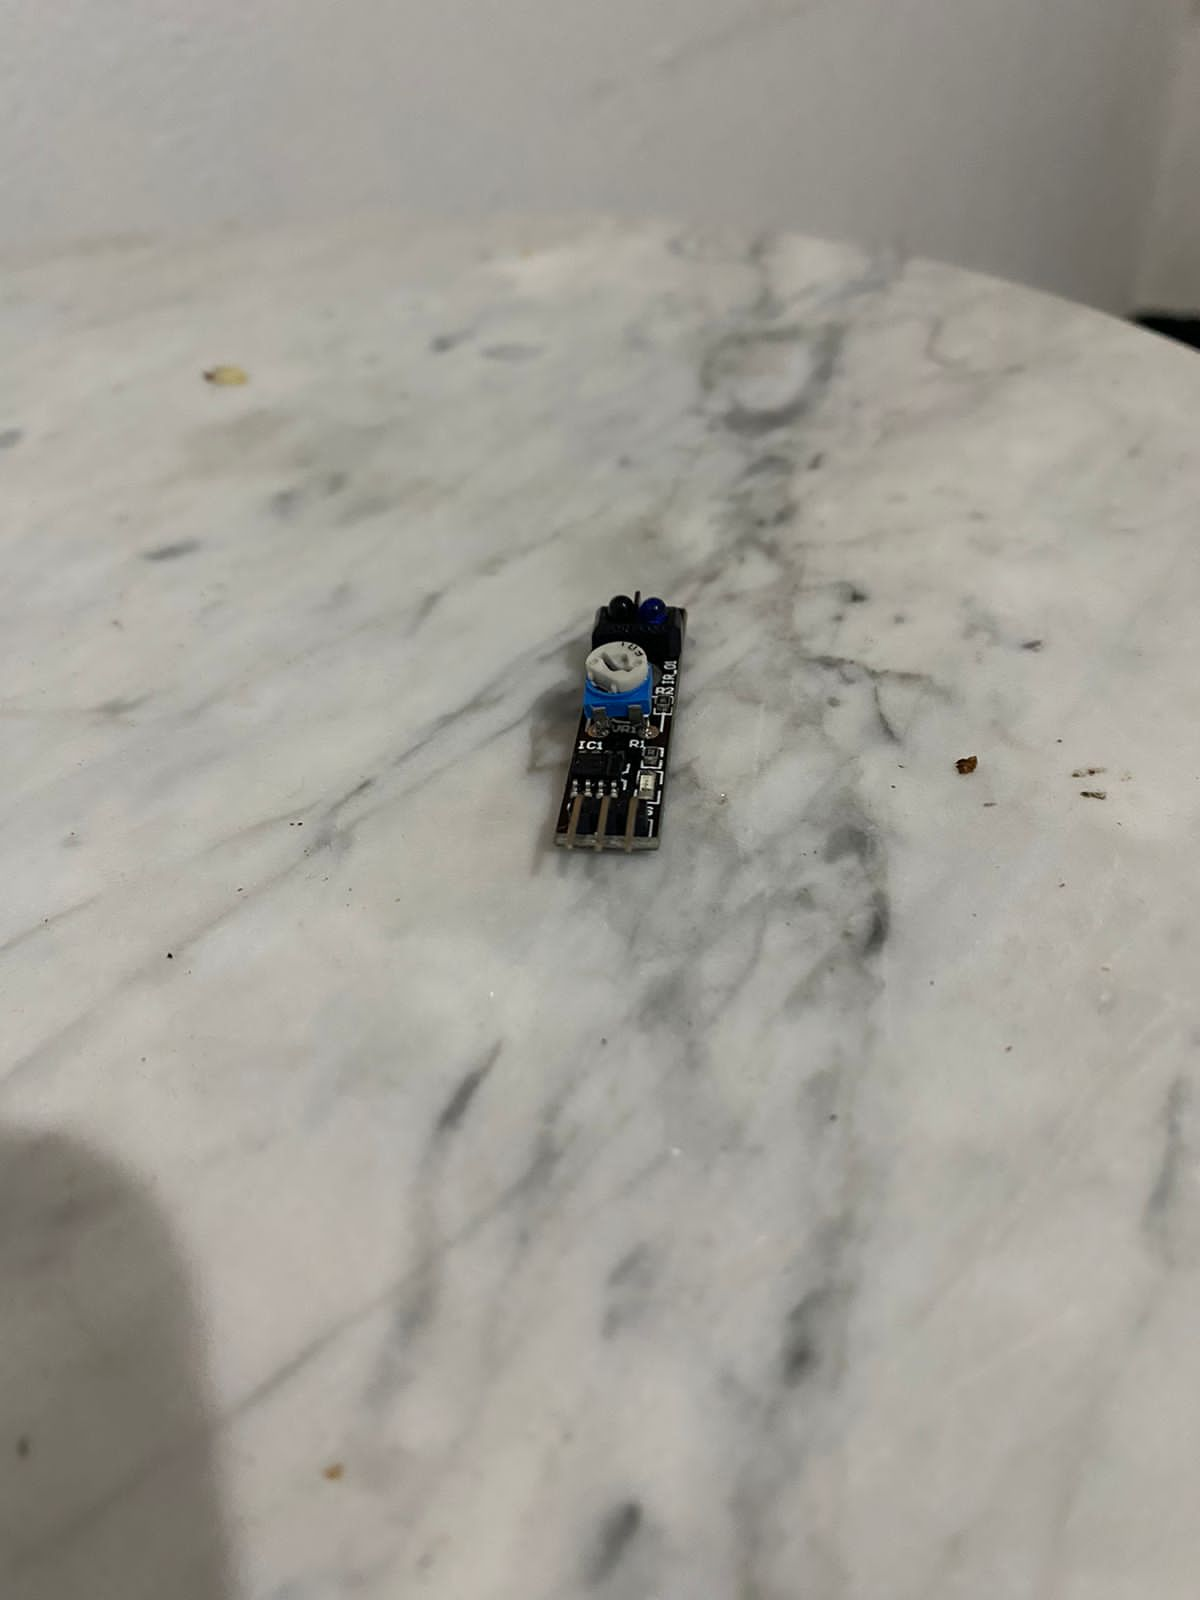ir-sensor: (516, 566, 711, 869)
